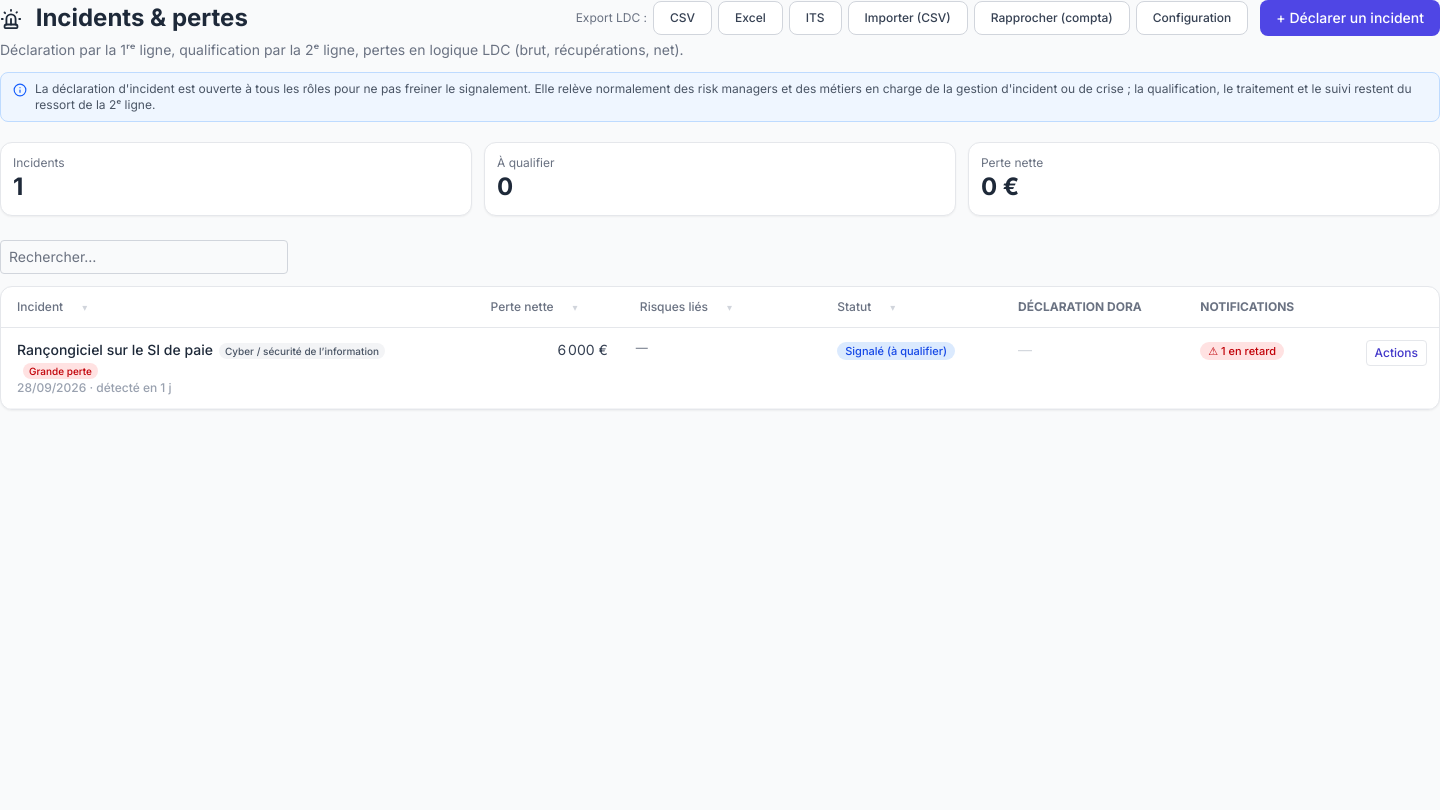
IncidentsManager — lot L1 › affiche type, grande perte et retards de notification ; ouvre les horloges
The image size is (1440, 810).
Expected: the text "Rançongiciel sur le SI de paie" is shown, [17,341,213,358]
Expected: the text "Cyber / sécurité de l’information" is shown, [219,343,385,359]
What coordinates should you click on to do the following:
click the button "⚠ 1 en retard"
I would click on:
 (1242, 350)
Its box is [1200,340,1284,360].
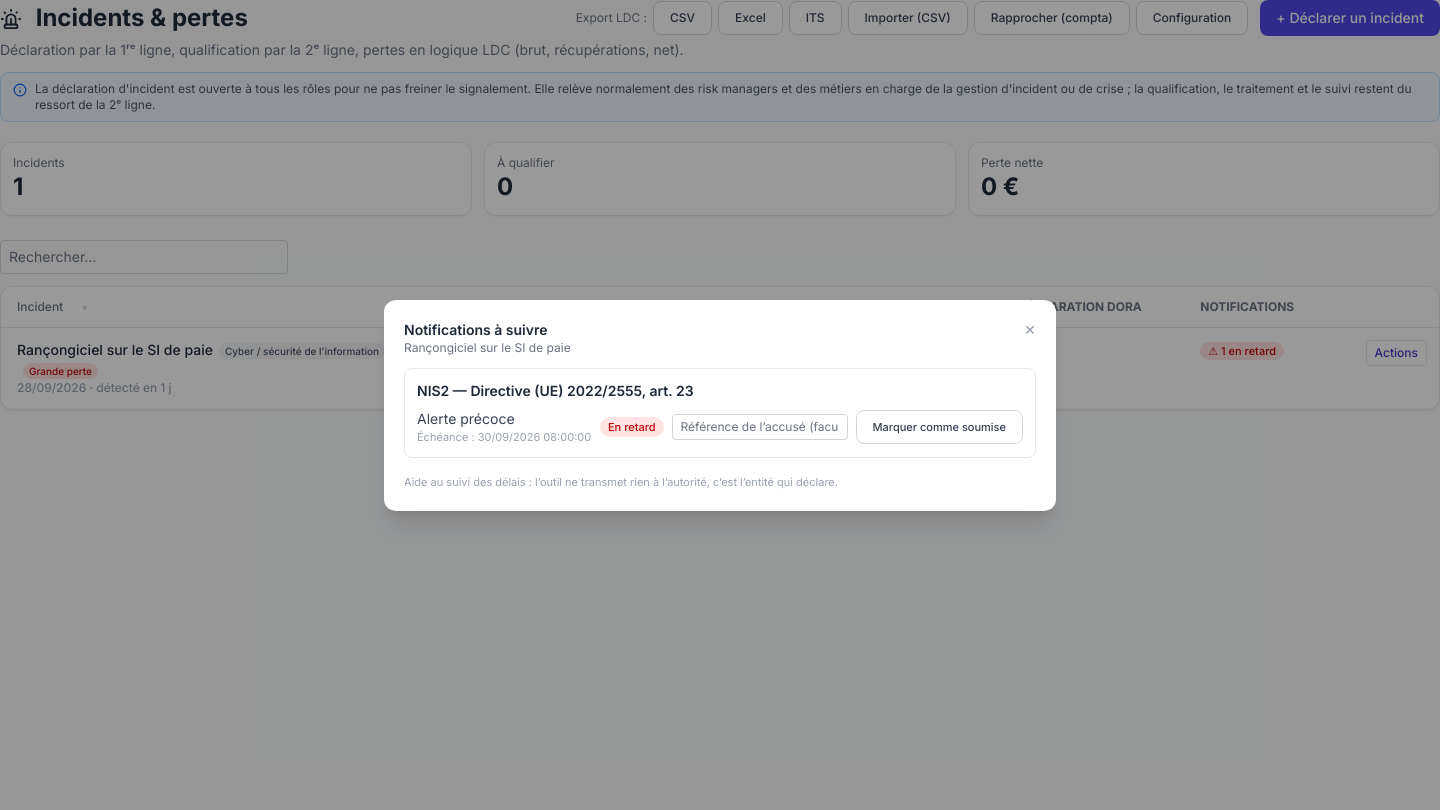
Now the heading "NIS2 — Directive (UE) 2022/2555, art. 23" is shown, box [417,382,694,398]
Now the text "Alerte précoce" is shown, box [417,410,515,426]
